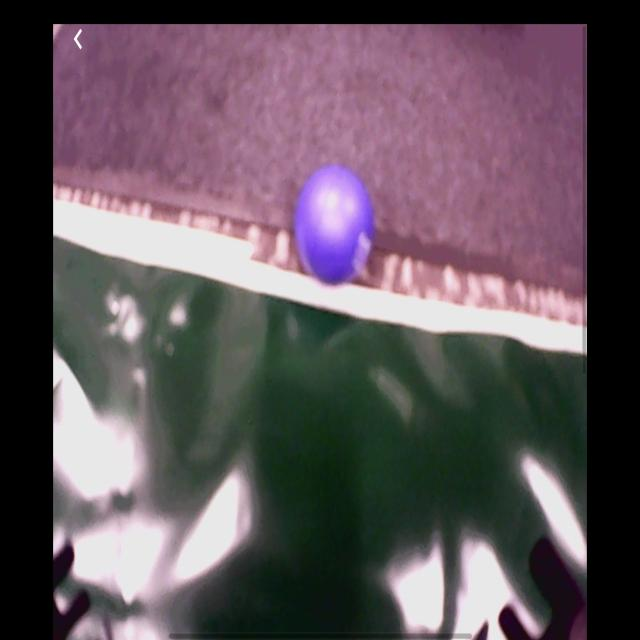ball: (297, 165, 374, 286)
